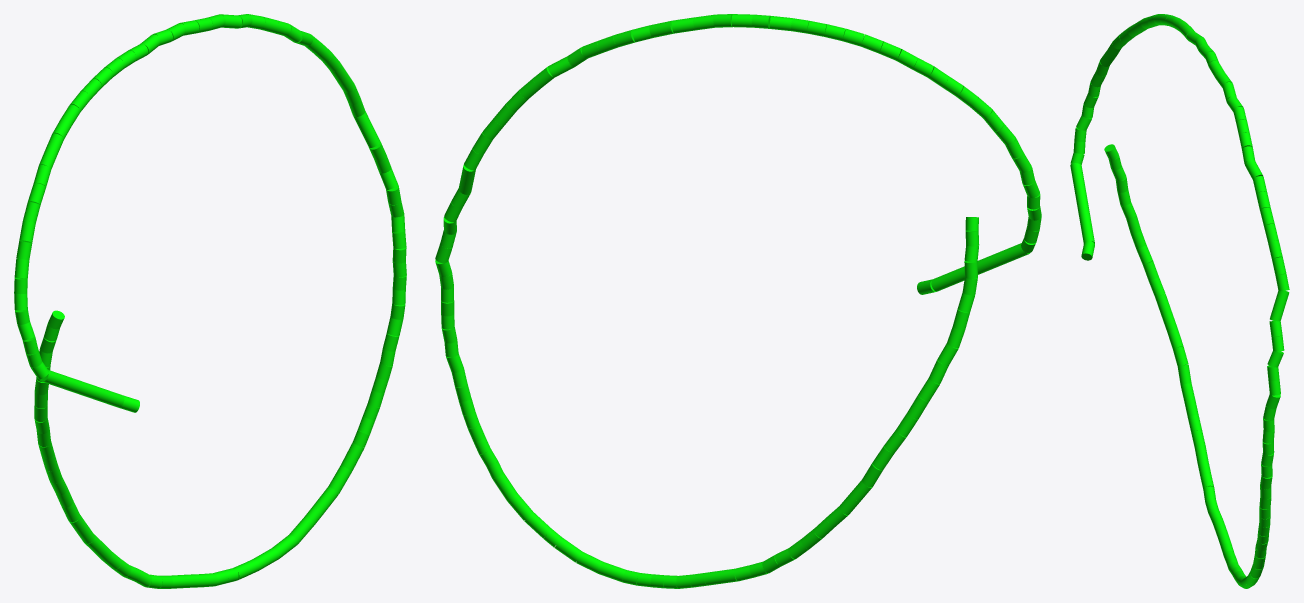
3 renders of one model, left to right at view 1: azimuth 30°, elevation 25°; view 2: azimuth 150°, elevation 25°; view 3: azimuth 270°, elevation 25°, orthographic. The views are drawn at different scales.
Visible parts, largest first — view 1: Cylinder(Clone); view 2: Cylinder(Clone); view 3: Cylinder(Clone).
Boxes of the visible parts, x1=… form: Cylinder(Clone): x1=39, y1=370, x2=124, y2=407; Cylinder(Clone): x1=931, y1=243, x2=1029, y2=291; Cylinder(Clone): x1=1070, y1=163, x2=1094, y2=243.
Bounding box in the file's own units: 0.4329 × 0.4856 × 0.1951.
